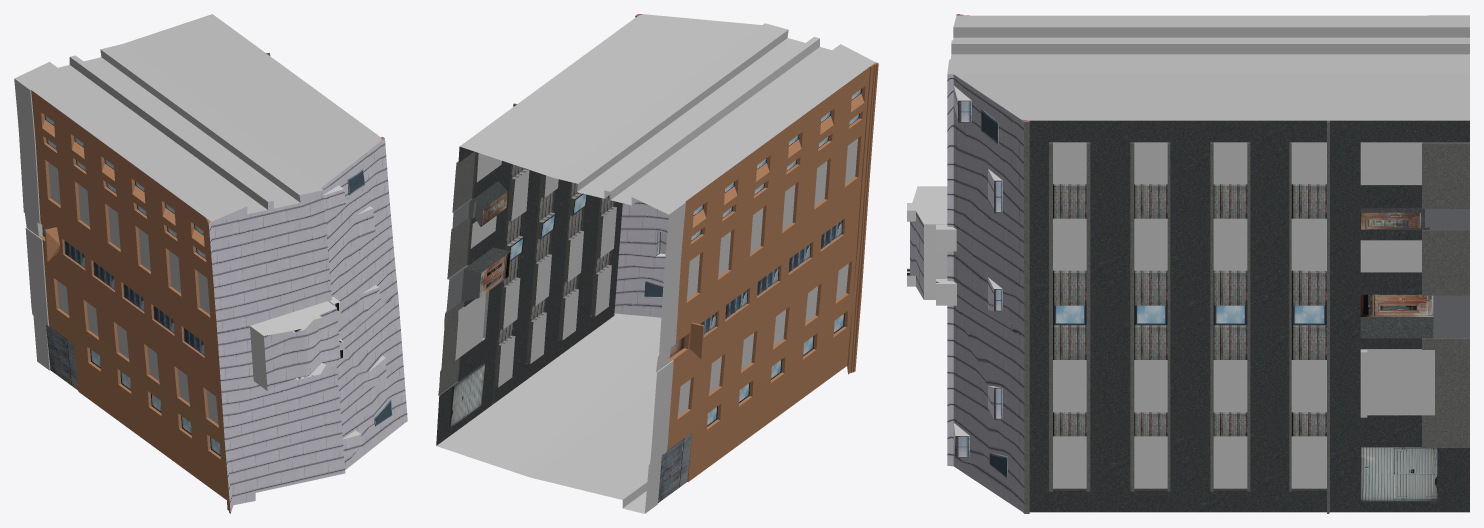
File: Aia_5a-origo.obj
3 views of the same model, side by side, from view 1: azimuth 30°, elevation 25°; view 2: azimuth 150°, elevation 25°; view 3: azimuth 270°, elevation 25° (orthographic). The views are drawn at different scales.
Visible parts, largest first — view 1: Aia5_A; view 2: Aia5_A; view 3: Aia5_A.
Part boxes in pixels (box(x1,y1,x2,y2)): Aia5_A: box(14, 14, 407, 513); Aia5_A: box(436, 14, 878, 513); Aia5_A: box(907, 14, 1469, 513).
Size of the model in its own units: 14.69 by 19.5 by 24.33.
